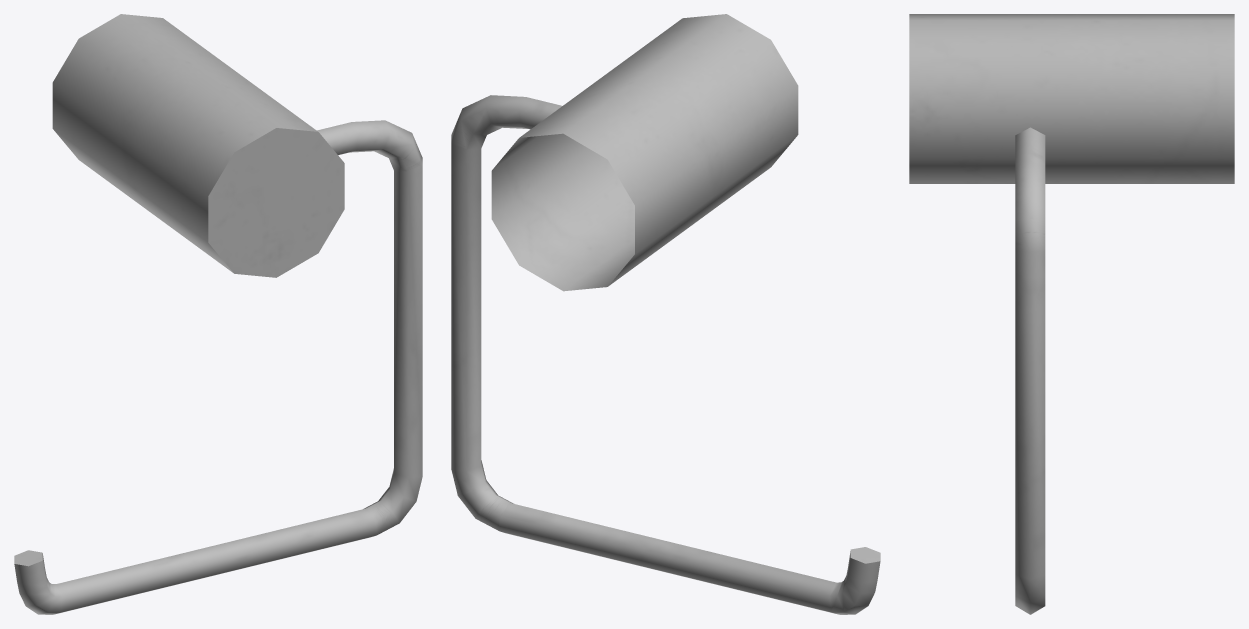
The model's file is Holder.fbx.
3 views of the same model, side by side, from view 1: azimuth 30°, elevation 25°; view 2: azimuth 150°, elevation 25°; view 3: azimuth 270°, elevation 25° (orthographic). The views are drawn at different scales.
Parts seen in each view (by area): view 1: Holder; view 2: Holder; view 3: Holder.
Part boxes in pixels (x1,y1,x2,y2): Holder: (14,14,422,614); Holder: (451,14,880,614); Holder: (909,14,1234,614).
Size of the model in its own units: 14.25 by 16.3 by 9.4.
